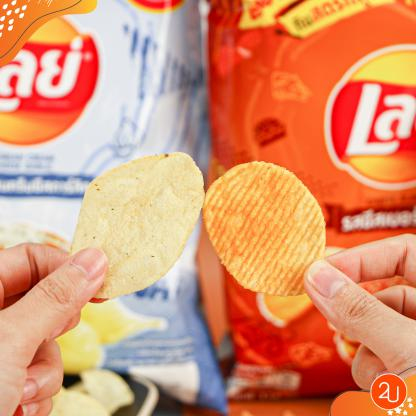potatochip: (0, 0, 236, 415), (194, 3, 416, 408)
